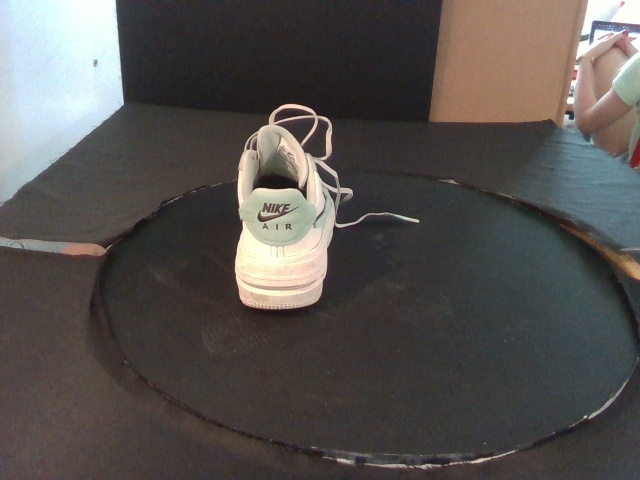shoe: (235, 124, 338, 312)
